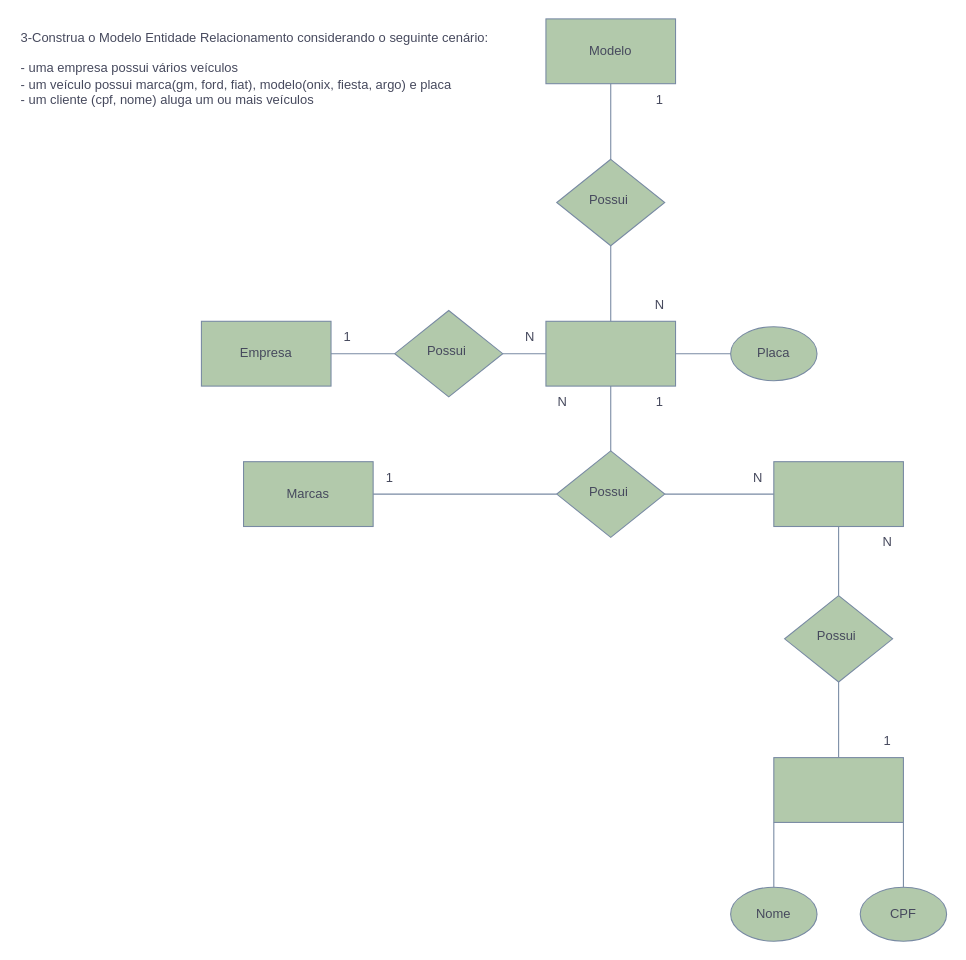
The diagram is 966 pixels wide and 960 high, and some of its shapes have lost their labels. Each missing label, with the centre of its shape:
Aluguel: the point at 838,493
Cliente: the point at 838,789
Veículos: the point at 610,353
